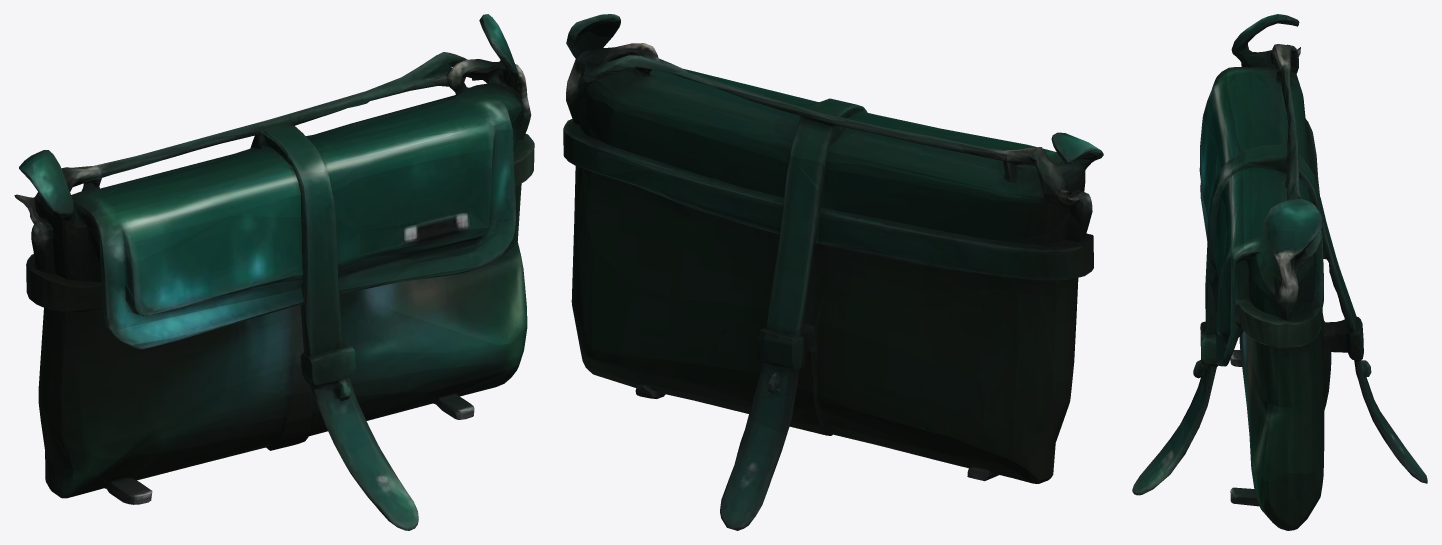
3 views of the same model, side by side, from view 1: azimuth 30°, elevation 25°; view 2: azimuth 150°, elevation 25°; view 3: azimuth 270°, elevation 25° (orthographic). The views are drawn at different scales.
Parts seen in each view (by area): view 1: geometry_0; view 2: geometry_0; view 3: geometry_0.
Part boxes in pixels (bbox=[...]): geometry_0: bbox=[14, 14, 534, 530]; geometry_0: bbox=[563, 14, 1103, 530]; geometry_0: bbox=[1132, 14, 1427, 530].
Size of the model in its own units: 0.9984 by 0.7676 by 0.5517.
1 material, 1 textured.
